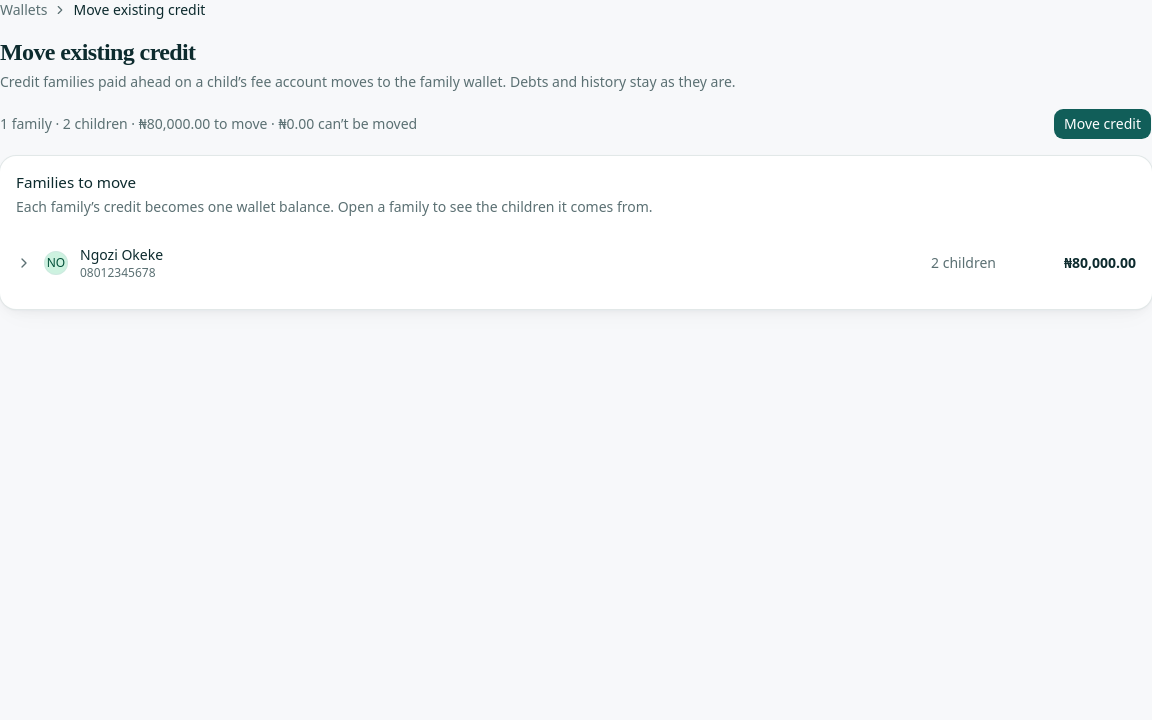
Test case: CreditMigrationPage › toasts the amount moved and refreshes the report once it is posted
The width and height of the screenshot is (1152, 720).
What coordinates should you click on to do the following:
click the button "Move credit"
I would click on:
 (1103, 124)
Its box is [1053,108,1151,140].
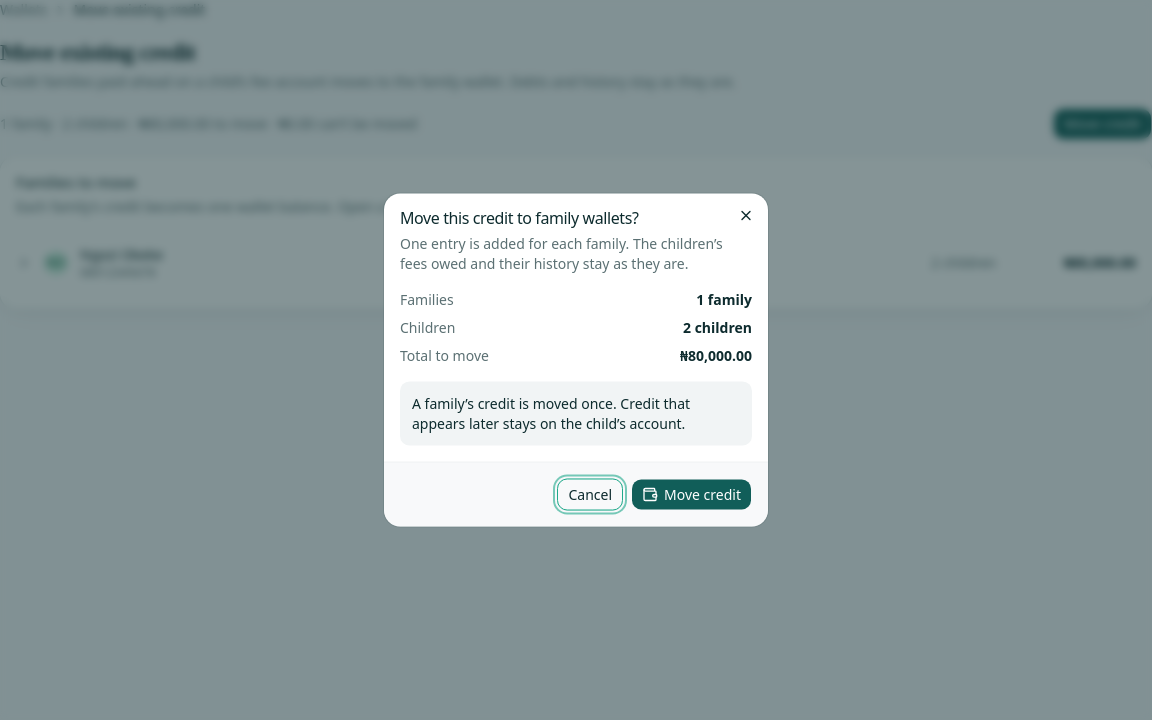
What coordinates should you click on to do the following:
click the button "Move credit"
I would click on:
 (692, 494)
Its box is [631,478,752,510].
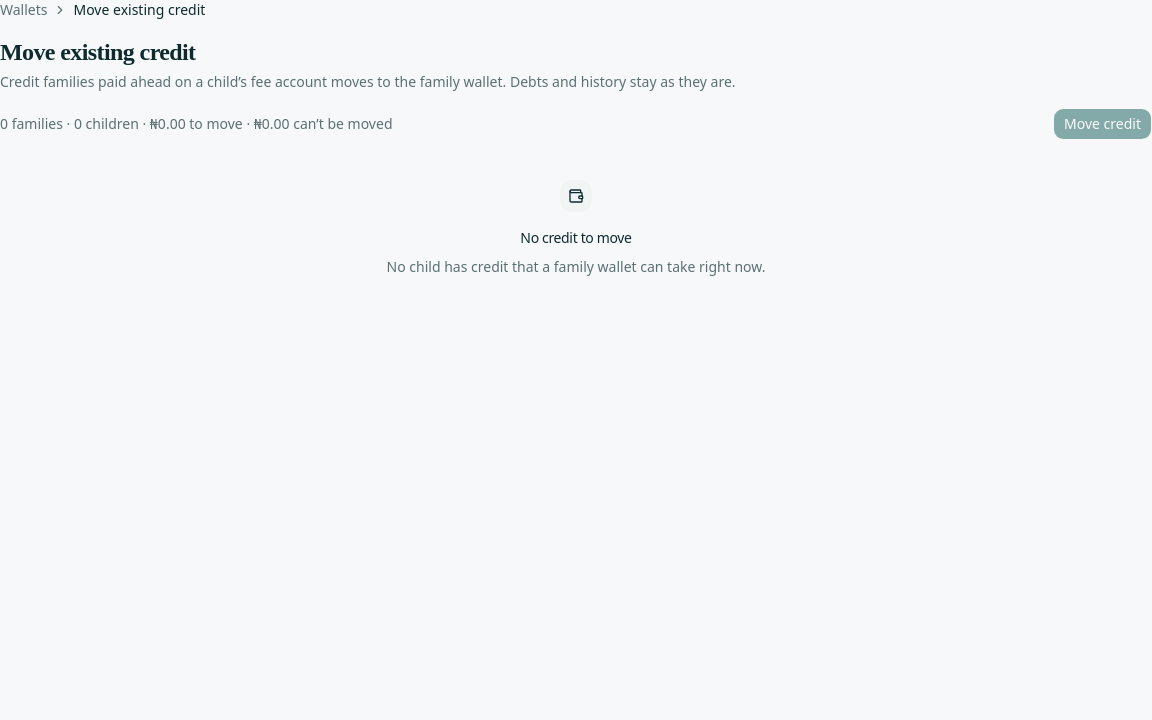
Check: the text "No credit to move" is shown, box [520,228,632,248]
Check: the dialog is gone
